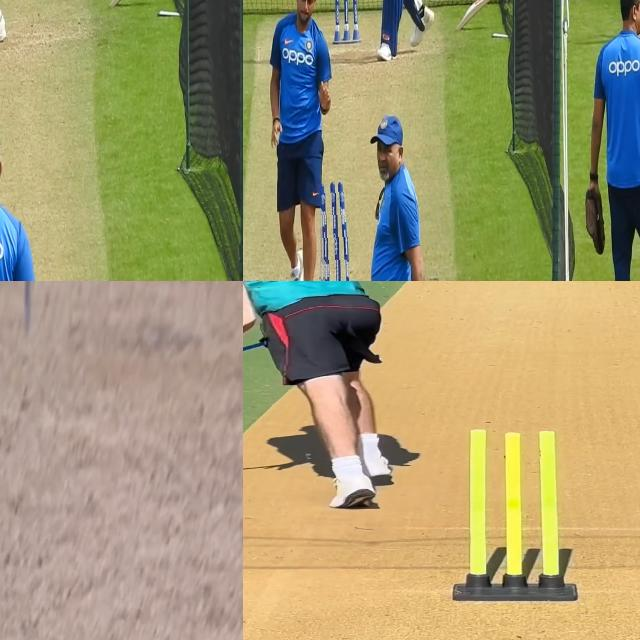Stumps: (451, 428, 577, 602), (317, 181, 349, 281), (334, 0, 360, 45)
